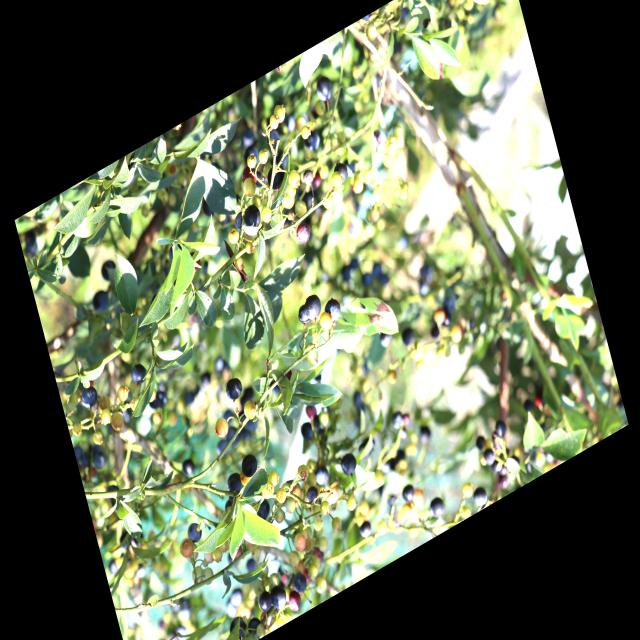blueberry: (264, 160, 288, 195), (302, 289, 324, 324), (241, 200, 263, 234), (88, 442, 109, 476), (177, 451, 199, 482), (78, 383, 100, 414), (322, 295, 343, 326), (314, 74, 334, 106), (91, 286, 112, 316), (223, 374, 244, 403), (269, 582, 289, 612), (228, 612, 249, 640), (302, 128, 322, 157), (240, 451, 260, 480), (290, 570, 310, 598), (428, 493, 447, 522), (166, 241, 185, 269), (339, 450, 358, 478), (471, 483, 490, 510), (226, 470, 244, 498), (294, 220, 312, 247), (130, 361, 148, 388), (313, 463, 331, 490), (246, 613, 264, 640), (295, 301, 312, 329), (99, 258, 117, 284), (255, 498, 273, 524), (332, 159, 349, 186), (186, 520, 203, 546), (232, 208, 248, 235), (300, 418, 316, 444), (493, 416, 509, 442), (257, 590, 274, 614), (305, 484, 320, 508), (401, 481, 416, 505), (482, 446, 497, 468), (358, 519, 373, 541), (473, 433, 488, 452), (492, 431, 504, 453)
blueberry-halfripe: (240, 163, 258, 190)
blueberry-unripe: (211, 410, 232, 443), (315, 304, 336, 336), (259, 476, 278, 504), (240, 395, 258, 424), (300, 338, 319, 364), (240, 173, 257, 200), (291, 530, 308, 556), (271, 100, 288, 126), (285, 167, 302, 192), (292, 196, 308, 222), (286, 547, 302, 571), (280, 189, 296, 213), (226, 224, 242, 248), (316, 498, 333, 520), (272, 505, 288, 527), (200, 566, 216, 588), (320, 190, 336, 212), (266, 467, 281, 490), (344, 492, 359, 514), (296, 461, 311, 483), (273, 483, 288, 505), (283, 496, 298, 518), (238, 466, 253, 488), (209, 543, 224, 565), (329, 168, 344, 189), (260, 204, 274, 226), (284, 183, 298, 202), (243, 238, 255, 260), (311, 514, 324, 534), (299, 122, 312, 142), (268, 112, 280, 133), (258, 146, 270, 167), (245, 151, 258, 170), (330, 515, 342, 535), (218, 540, 230, 556), (234, 255, 245, 272), (333, 182, 345, 196)
